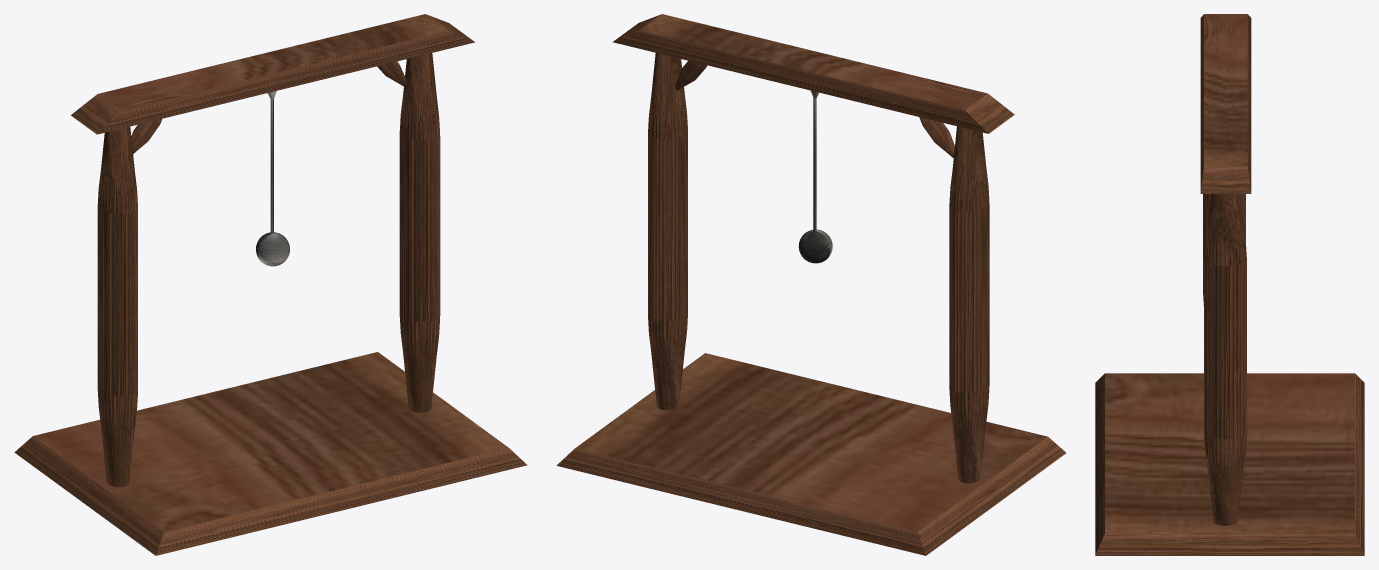
The model's file is pendulum.glb.
3 views of the same model, side by side, from view 1: azimuth 30°, elevation 25°; view 2: azimuth 150°, elevation 25°; view 3: azimuth 270°, elevation 25° (orthographic). The views are drawn at different scales.
Parts seen in each view (by area): view 1: Cube, Cube.001, Cylinder, Cylinder.001, Sphere; view 2: Cube, Cube.001, Cylinder.001, Cylinder, Sphere, Cylinder.003; view 3: Cube, Cylinder, Cube.001, Cylinder.001.
Part boxes in pixels (x1=…): Cube: x1=14, y1=352, x2=527, y2=555; Cube.001: x1=71, y1=14, x2=474, y2=134; Cylinder: x1=399, y1=53, x2=440, y2=412; Cylinder.001: x1=97, y1=126, x2=137, y2=487; Sphere: x1=256, y1=232, x2=289, y2=266; Cube: x1=556, y1=353, x2=1066, y2=555; Cube.001: x1=612, y1=14, x2=1014, y2=133; Cylinder.001: x1=949, y1=126, x2=989, y2=483; Cylinder: x1=648, y1=53, x2=687, y2=410; Sphere: x1=798, y1=229, x2=832, y2=263; Cylinder.003: x1=919, y1=117, x2=954, y2=157; Cube: x1=1095, y1=373, x2=1364, y2=555; Cylinder: x1=1204, y1=194, x2=1246, y2=525; Cube.001: x1=1200, y1=14, x2=1251, y2=193; Cylinder.001: x1=1203, y1=194, x2=1245, y2=305.
Size of the model in its own units: 6.38 by 6.41 by 4.13.
2 materials, 2 textured.
